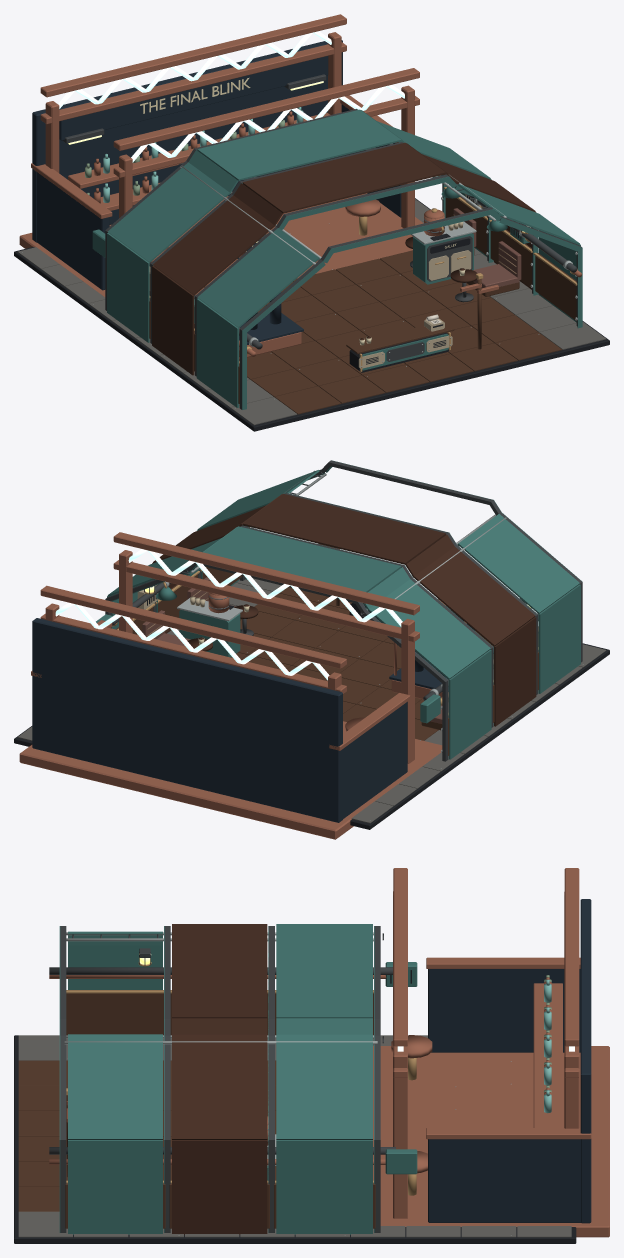
Rendered from beacon-far-wink-bar.glb.
The picture shows the model from 3 angles, top to bottom: view 1: azimuth 30°, elevation 25°; view 2: azimuth 150°, elevation 25°; view 3: azimuth 270°, elevation 25°; orthographic projection. The views are drawn at different scales.
Visible parts, largest first — view 1: beacon-far-wink-bar; view 2: beacon-far-wink-bar; view 3: beacon-far-wink-bar.
Boxes of the visible parts, x1,y1,x2,y2 form: beacon-far-wink-bar: (14, 14, 609, 431); beacon-far-wink-bar: (14, 460, 609, 839); beacon-far-wink-bar: (14, 868, 609, 1243).
Size of the model in its own units: 17.08 by 7.59 by 21.15.
23 materials, 19 textured.
